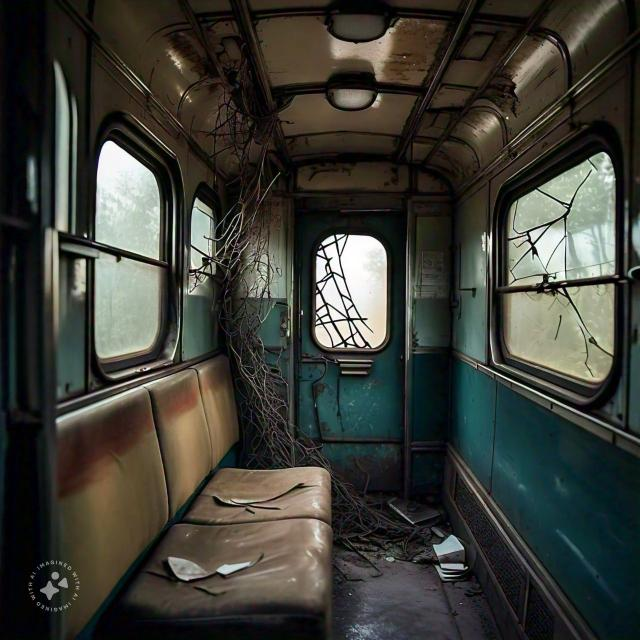Broken_Window_Seat: (463, 132, 639, 401), (260, 185, 446, 367)
Interior_Cleanliness: (104, 358, 340, 630), (369, 452, 557, 622)
Lights: (300, 0, 428, 71), (306, 70, 424, 131)
